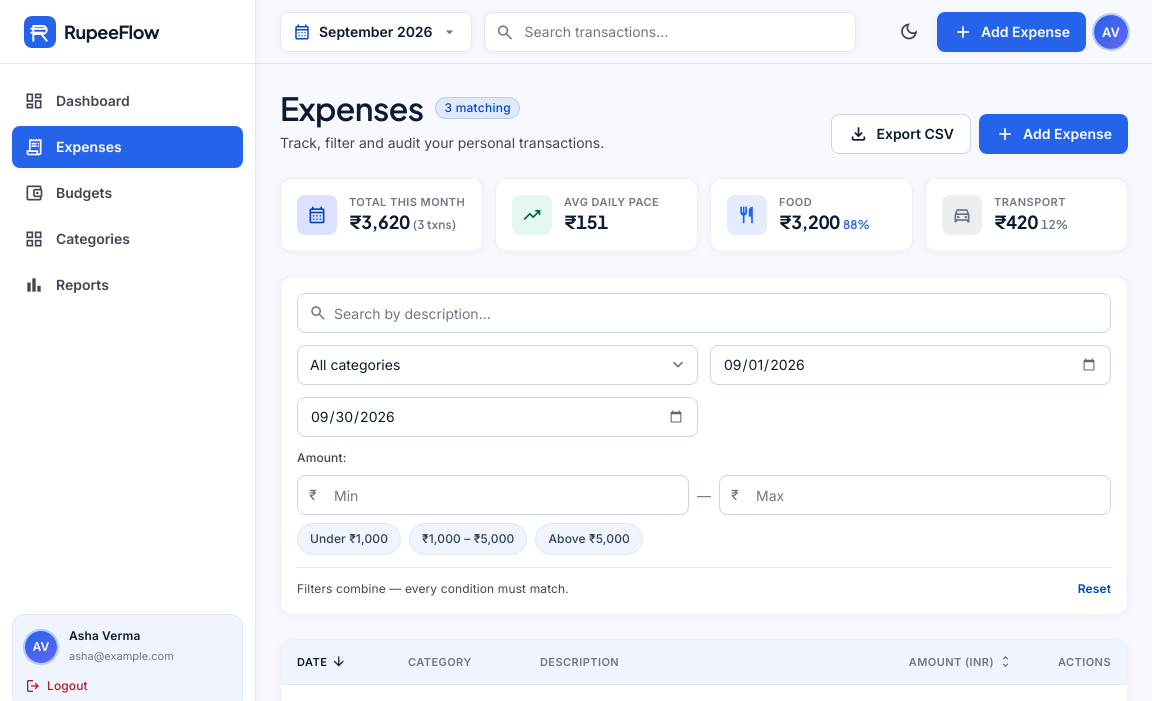
Test: Expenses › does not query the API while min > max, and flags the field
The image size is (1152, 701).
Type "500" into the field with placeholder "Min".
click(493, 495); type("500")  # box [297,475,689,515]
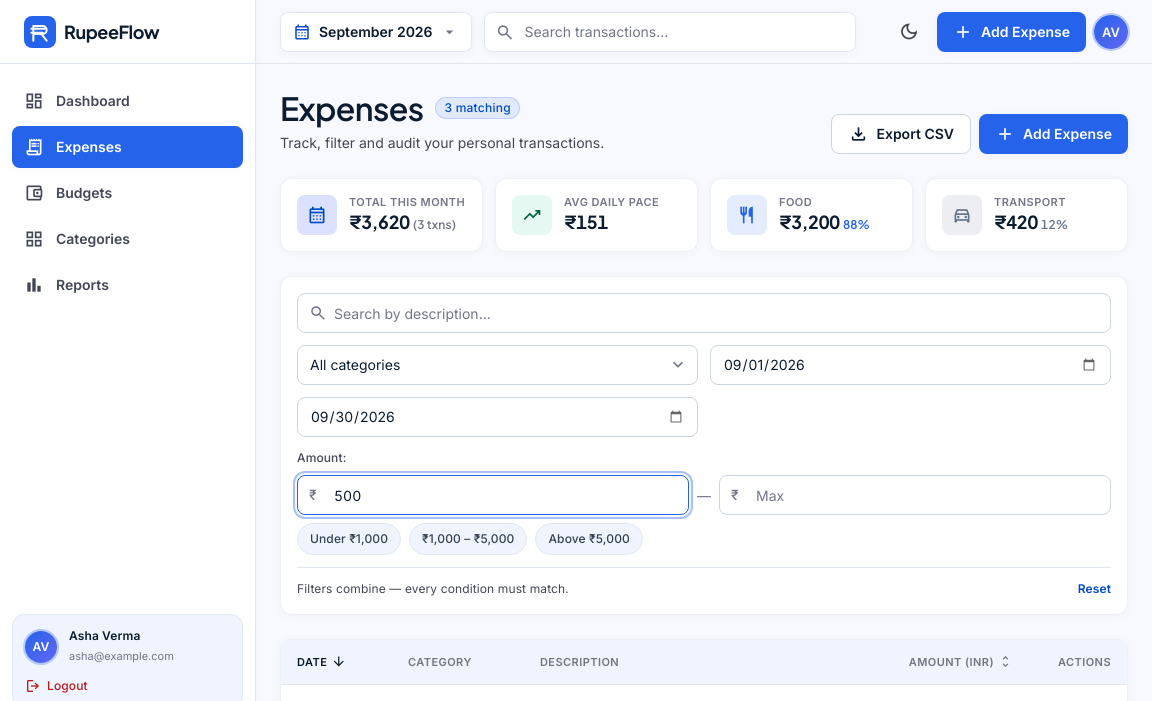
Type "100" into the field named "Maximum amount".
click(915, 495); type("100")  # box [719,475,1111,515]
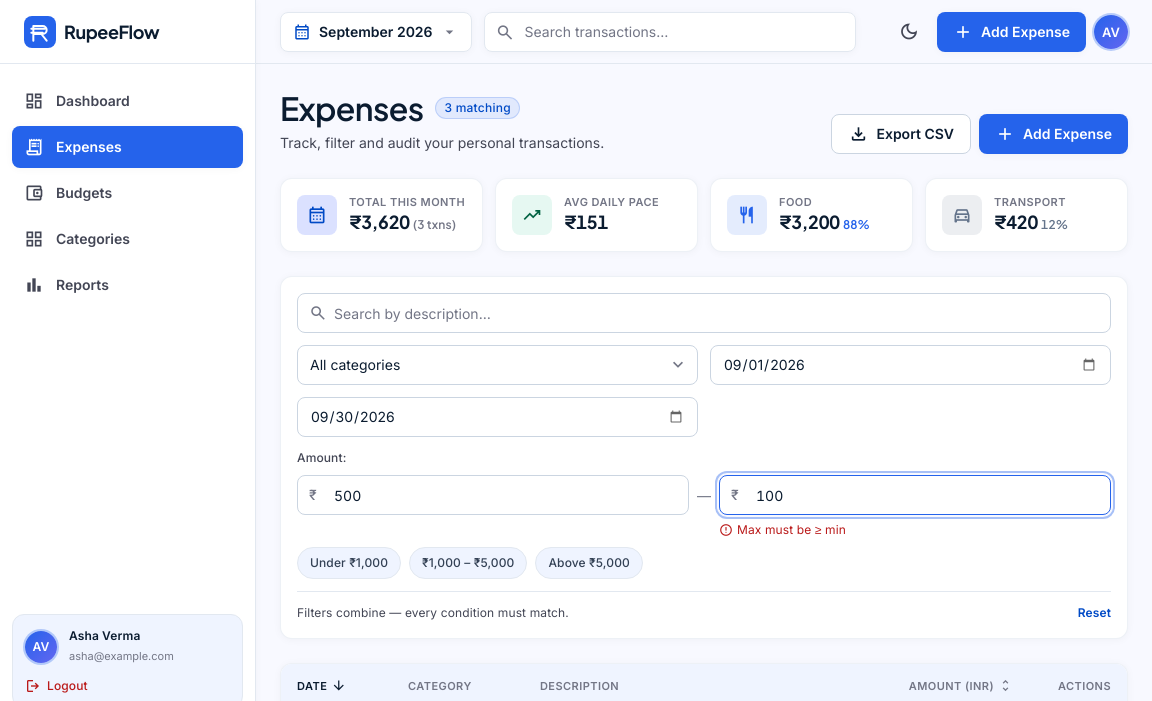
Now the text "Max must be ≥ min" is shown, box [719,522,846,538]
